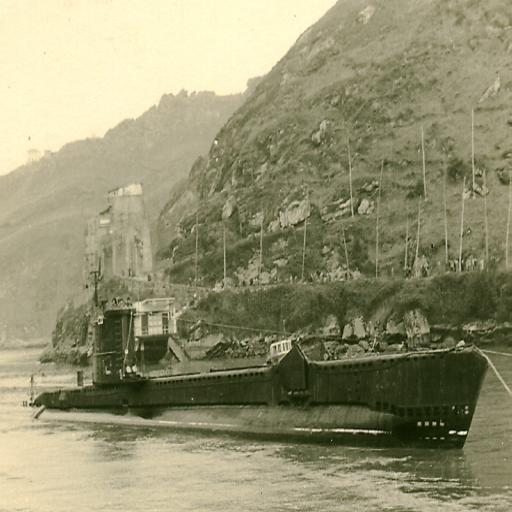submarine: (29, 310, 495, 454)
